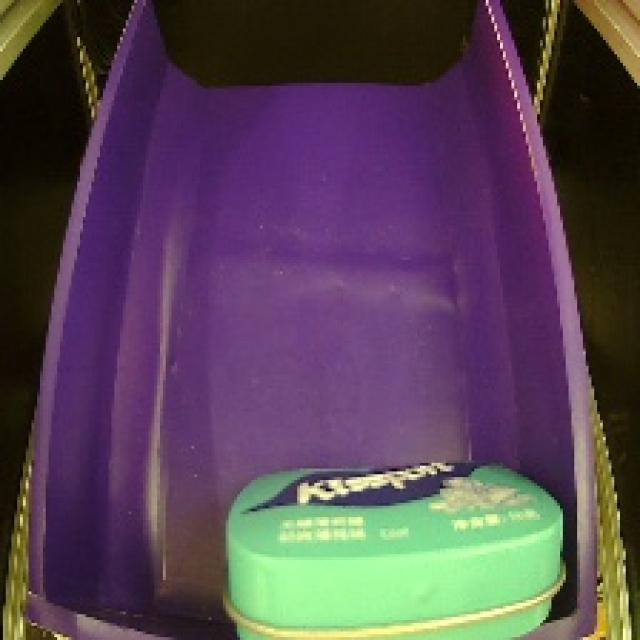metal: (203, 443, 574, 640)
